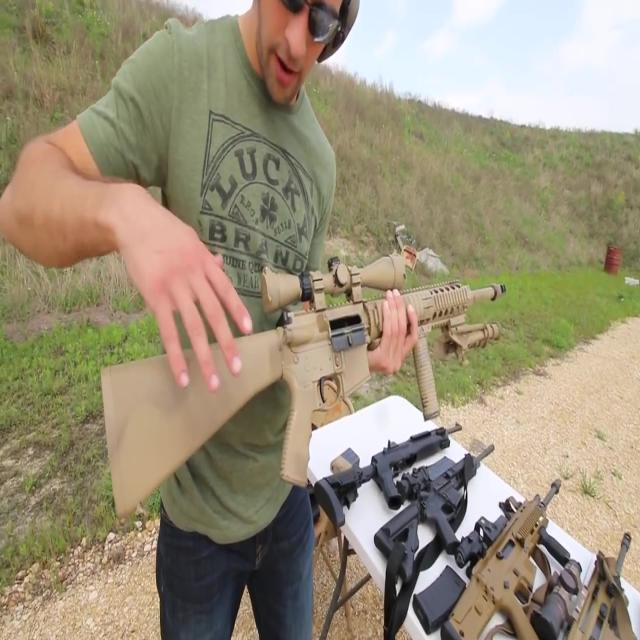Weapon: (73, 219, 544, 493), (291, 363, 640, 639)
